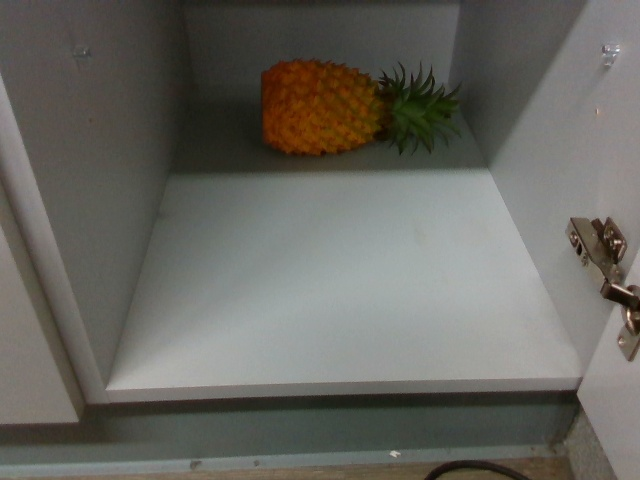pineapple: (256, 59, 460, 158)
